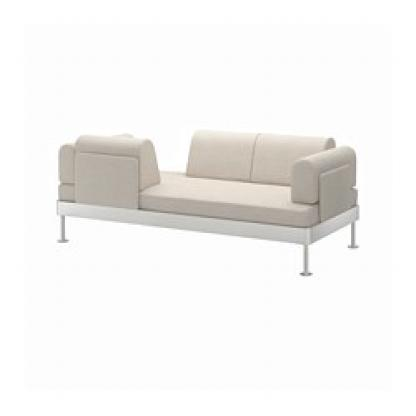Sofa: (38, 100, 378, 284)
